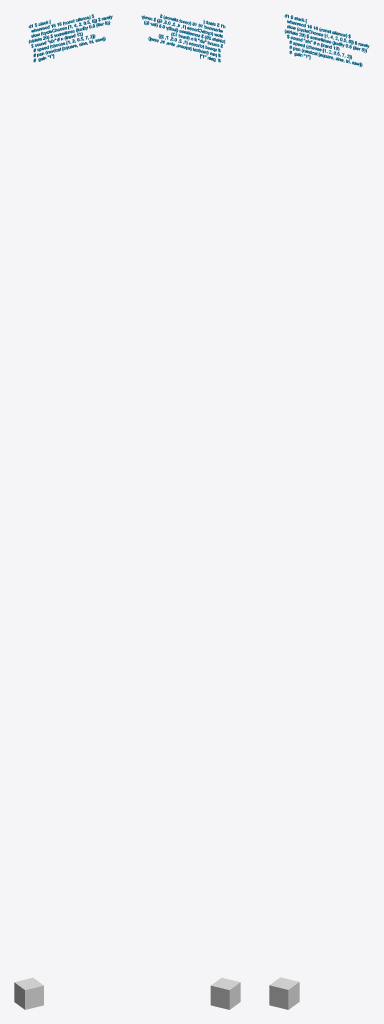
File: code.glb
The picture shows the model from 3 angles, left to right: view 1: azimuth 30°, elevation 25°; view 2: azimuth 150°, elevation 25°; view 3: azimuth 330°, elevation 25°; orthographic projection.
Parts seen in each view (by area): view 1: Object_2, Cube, Object_3; view 2: Object_2, Cube, Object_3; view 3: Object_2, Cube, Object_3.
Part boxes in pixels (bbox=[...]): Object_2: bbox=[28, 14, 112, 62]; Cube: bbox=[14, 977, 43, 1009]; Object_3: bbox=[28, 15, 110, 60]; Object_2: bbox=[141, 14, 225, 62]; Cube: bbox=[210, 977, 240, 1009]; Object_3: bbox=[144, 15, 225, 60]; Object_2: bbox=[284, 14, 369, 65]; Cube: bbox=[269, 977, 299, 1009]; Object_3: bbox=[284, 14, 366, 66].
Size of the model in its own units: 9.85 by 98.95 by 2.
2 materials, 1 textured.
